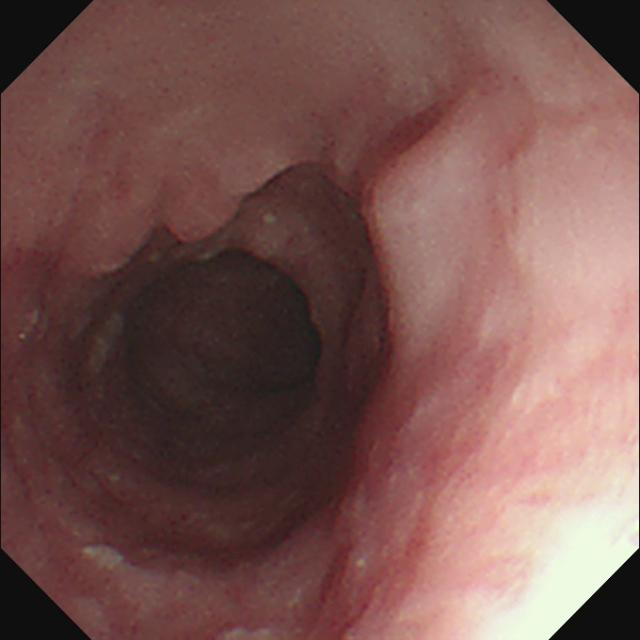A: (354, 91, 488, 339), (307, 543, 385, 640), (62, 222, 154, 282), (162, 192, 242, 250)
E: (236, 259, 330, 395)
J: (83, 543, 126, 576)
U: (474, 491, 636, 637)
